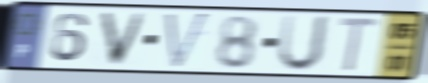6: (49, 11, 90, 64)
8: (213, 13, 258, 71)
T: (336, 15, 382, 75)
U: (274, 12, 334, 75)
V: (97, 9, 150, 69), (162, 10, 213, 72)
